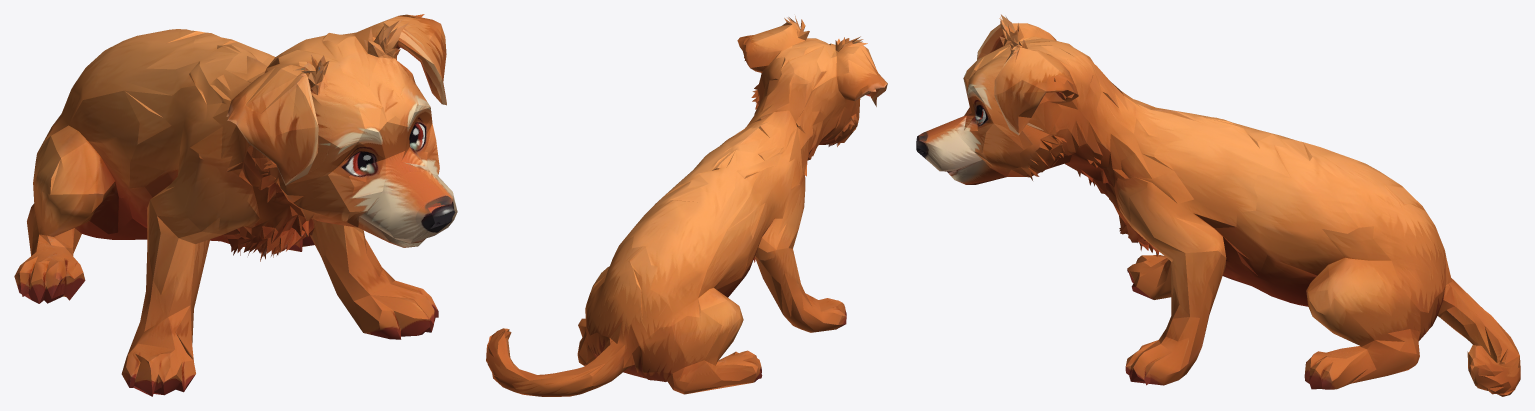
File: Biscuit_the_dog.glb
3 renders of one model, left to right at view 1: azimuth 30°, elevation 25°; view 2: azimuth 150°, elevation 25°; view 3: azimuth 270°, elevation 25°, orthographic. The views are drawn at different scales.
Size of the model in its own units: 0.9958 by 1.04 by 1.89.
Materials: 1 (1 with a texture image).
